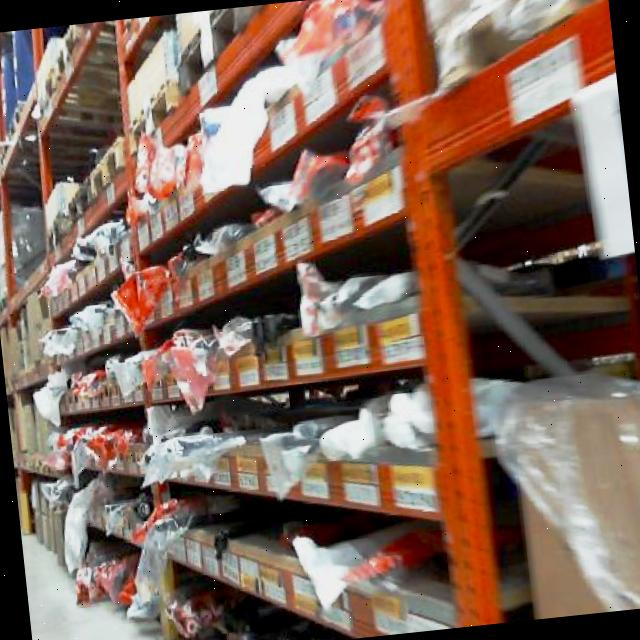pallet: (378, 0, 640, 627)
